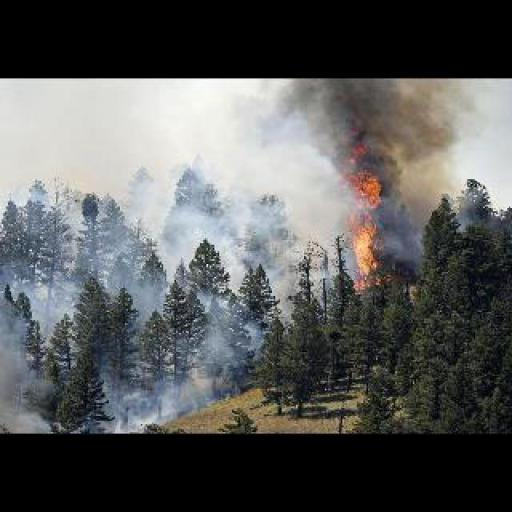smoke: (2, 174, 252, 404), (280, 76, 486, 178), (344, 126, 390, 296)
